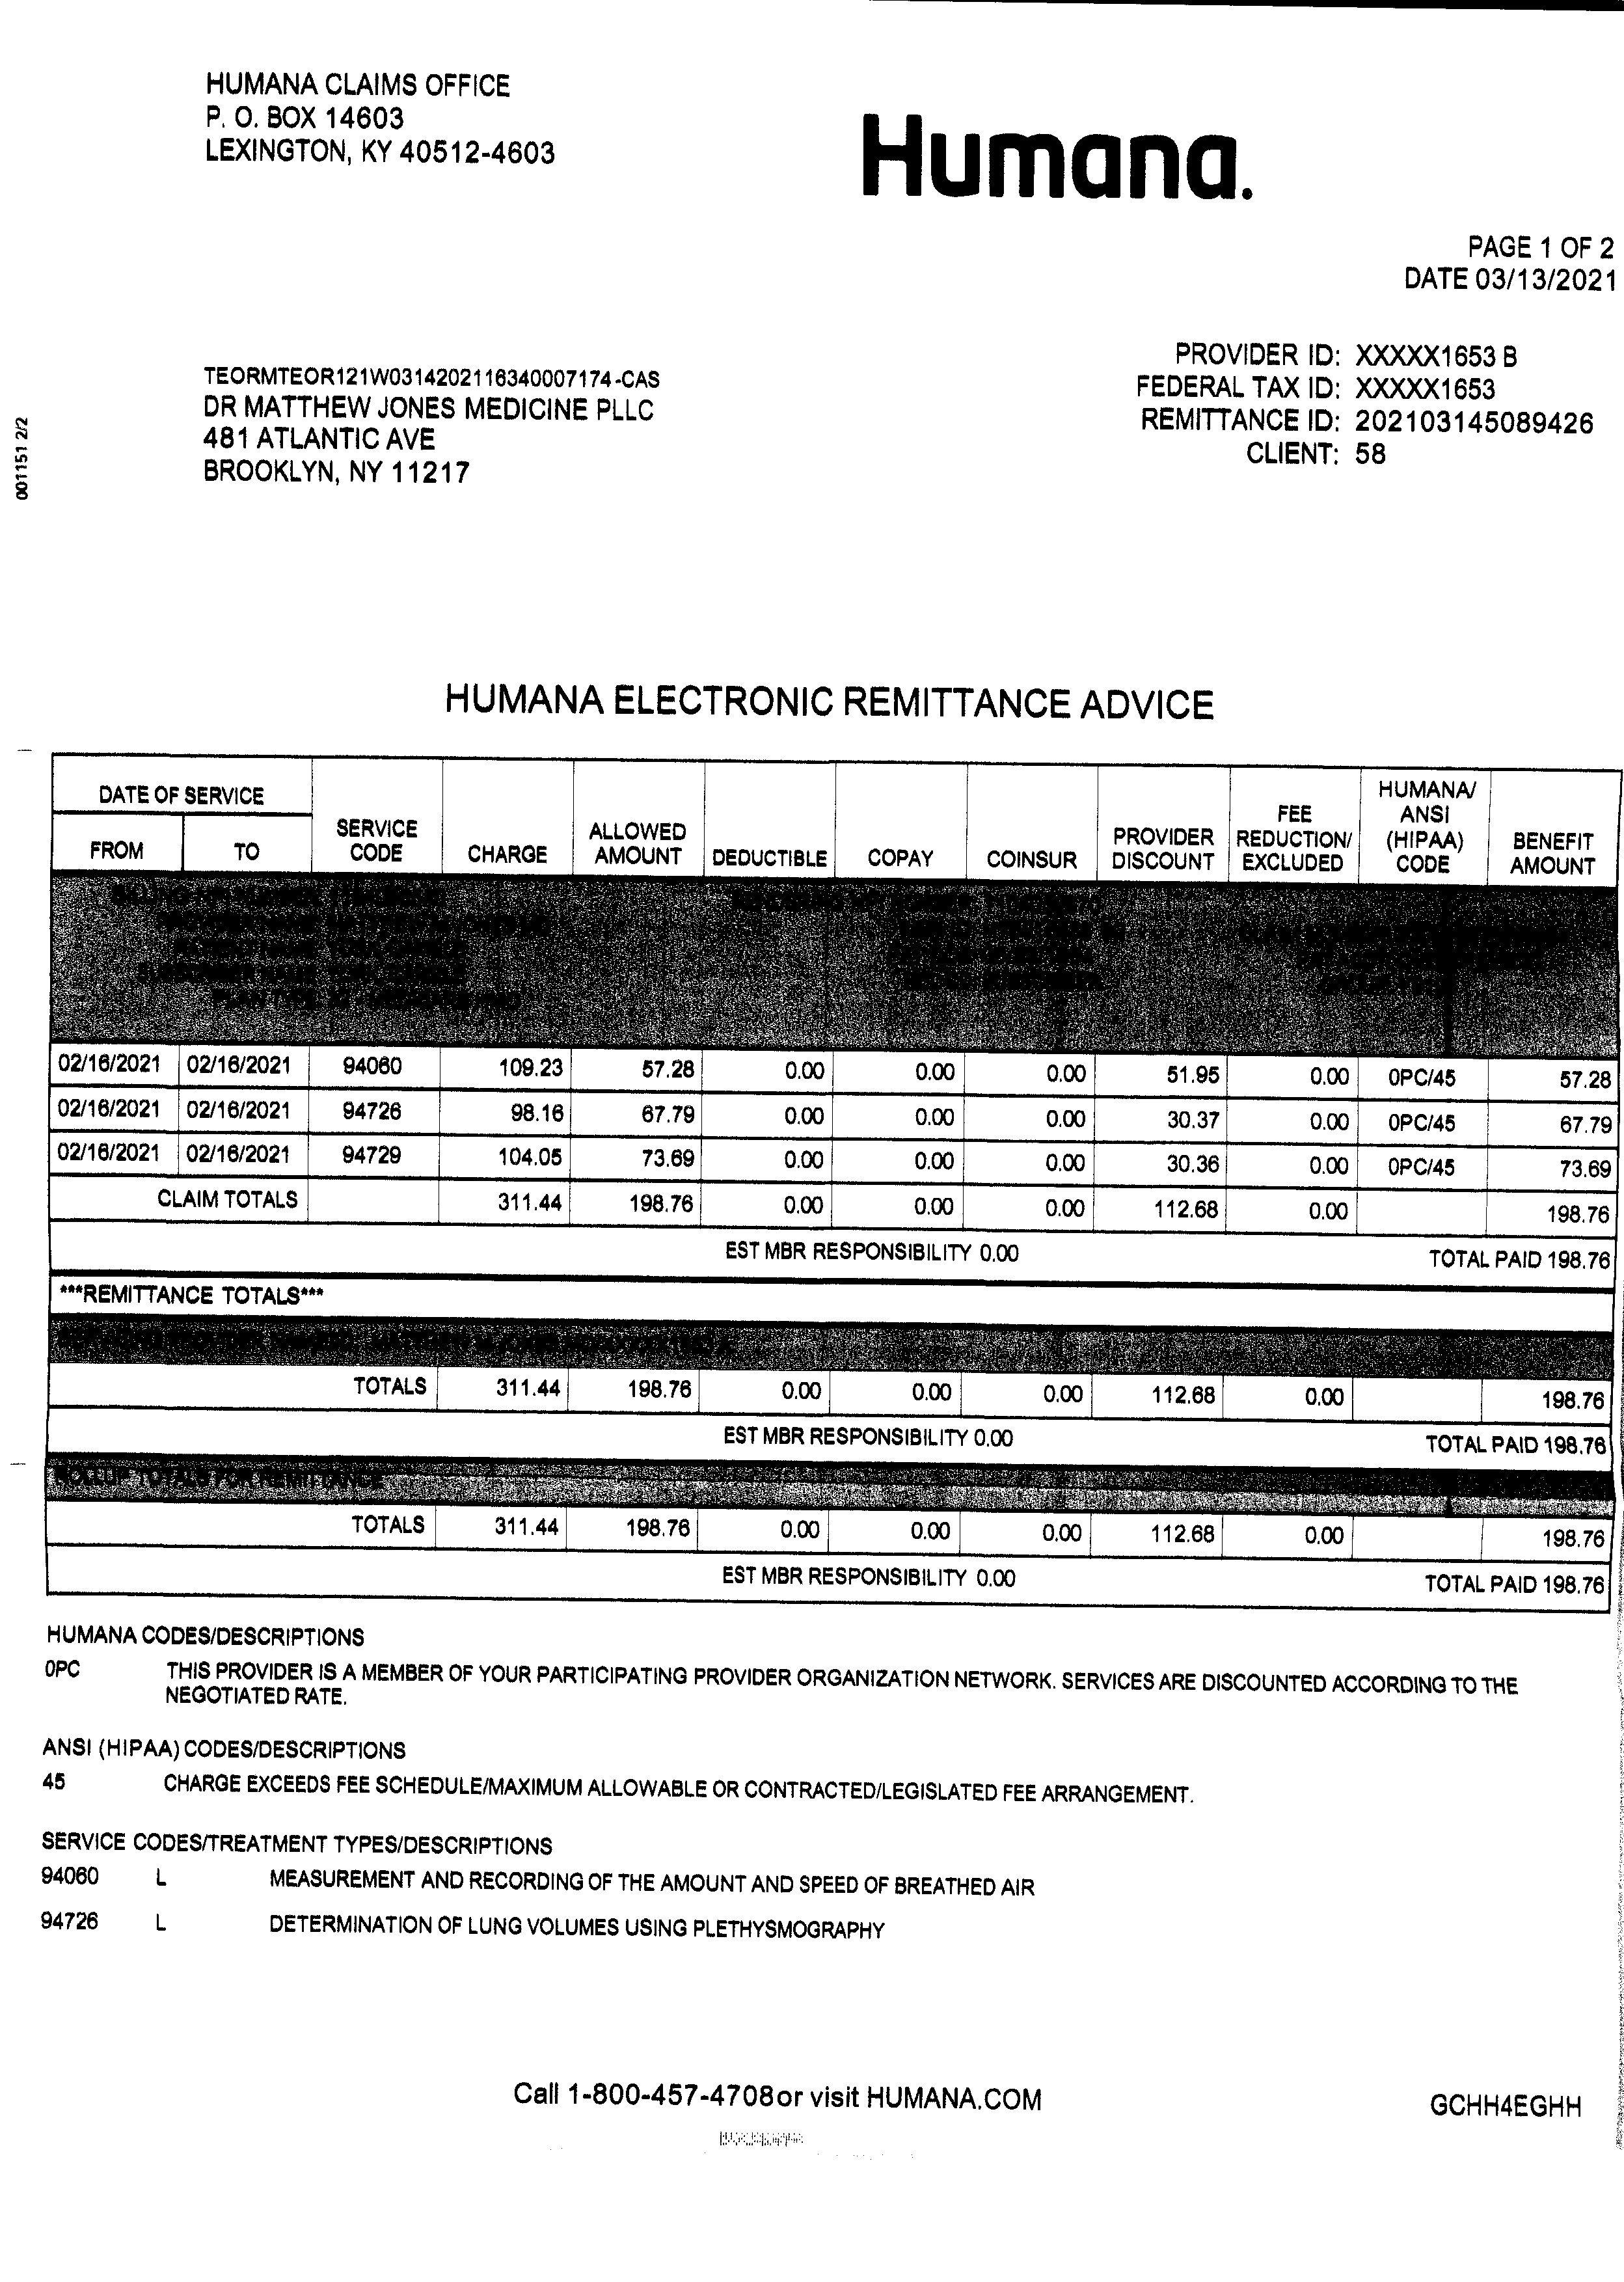data: (1123, 316, 1624, 489), (176, 343, 684, 499)
table: (33, 733, 1624, 1278)
